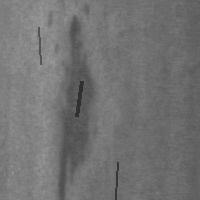inclusion: (53, 11, 96, 199), (41, 5, 57, 33), (74, 79, 83, 118), (112, 160, 119, 200), (36, 25, 42, 66)
